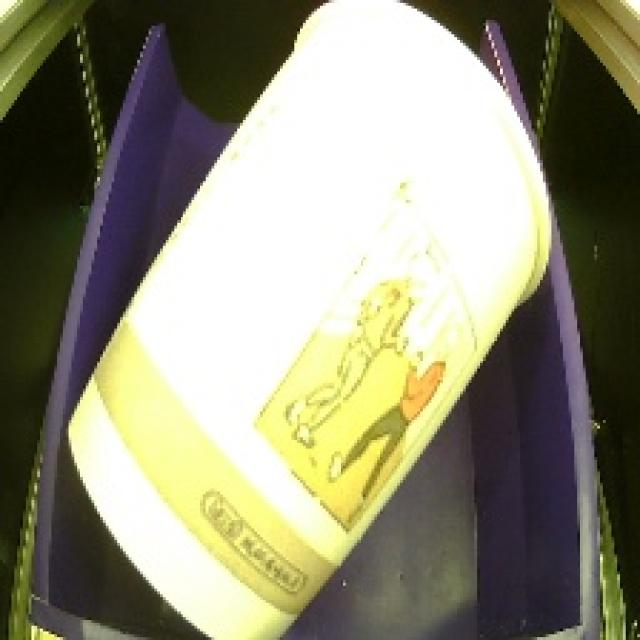cups: (42, 0, 568, 640)
